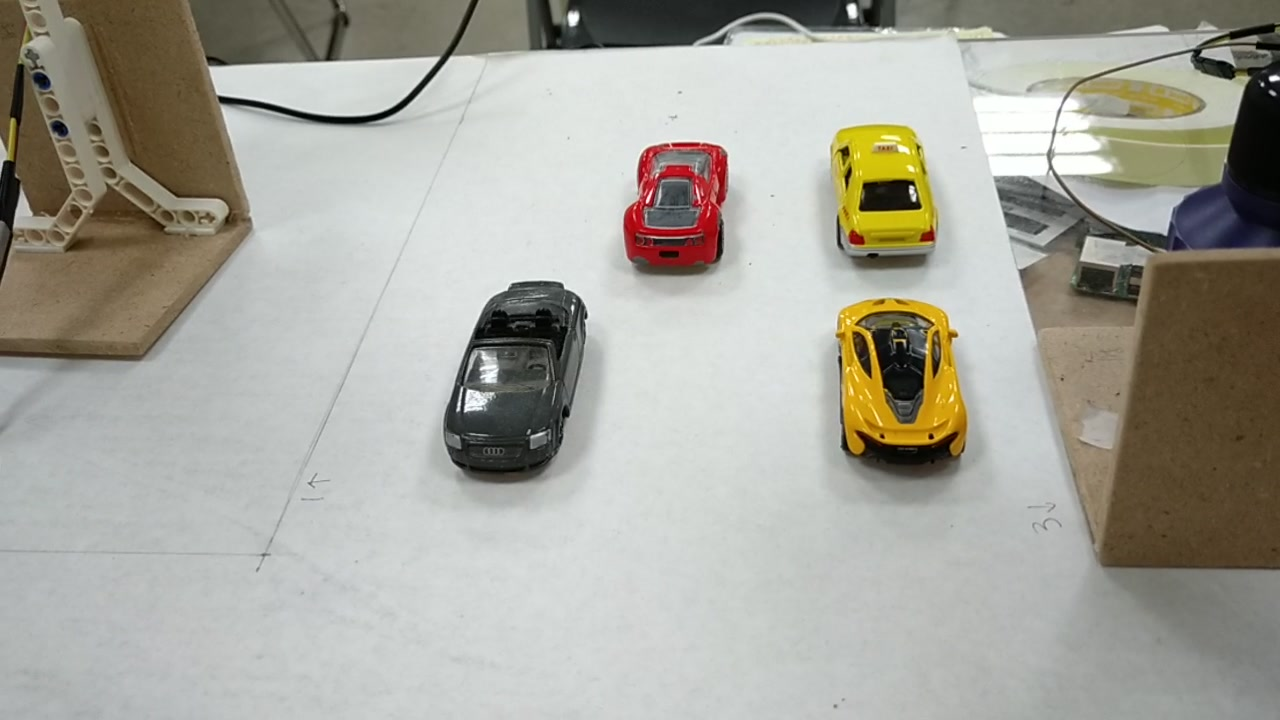car: (441, 288, 593, 479), (842, 293, 959, 458), (622, 139, 731, 269), (833, 124, 931, 256)
